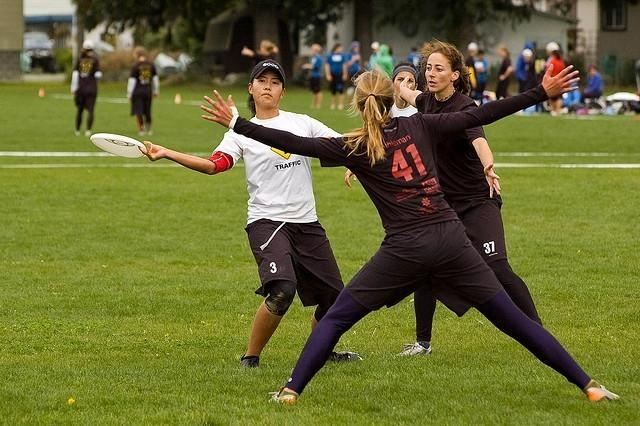car: (22, 32, 58, 73)
